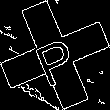P_NW: (28, 24, 82, 86)
